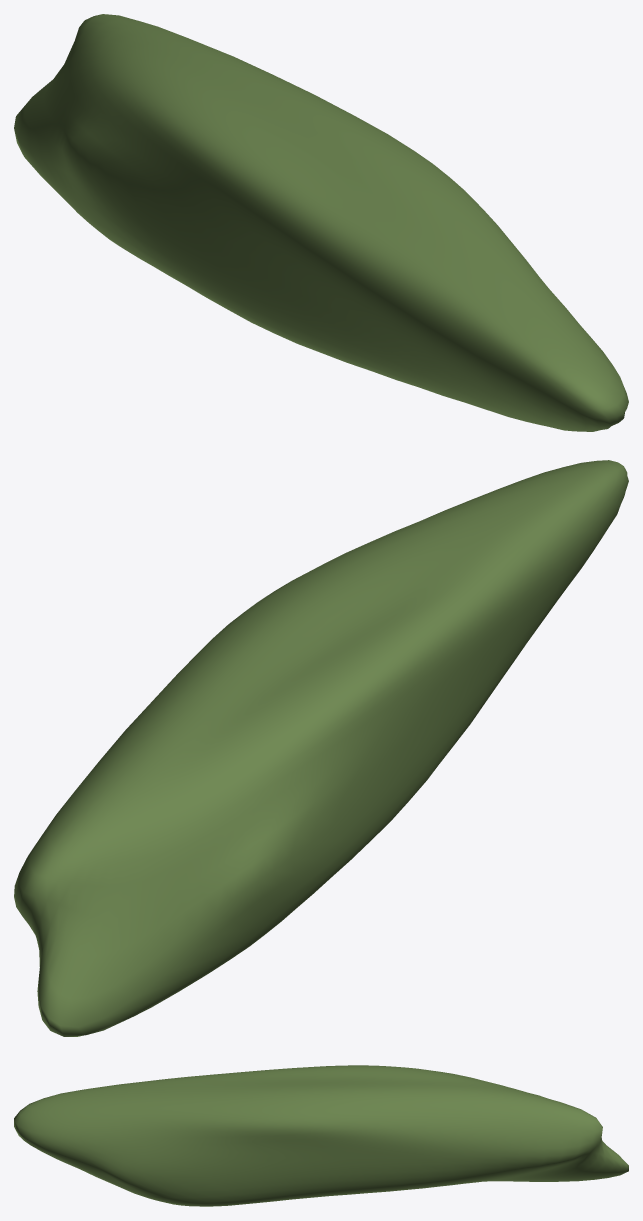
File: Feuilles_Obstacle_2.fbx
3 renders of one model, top to bottom at view 1: azimuth 30°, elevation 25°; view 2: azimuth 150°, elevation 25°; view 3: azimuth 270°, elevation 25°, orthographic. The views are drawn at different scales.
Parts seen in each view (by area): view 1: Sphere.006; view 2: Sphere.006; view 3: Sphere.006.
Boxes of the visible parts, bbox=[...] form: Sphere.006: bbox=[14, 14, 628, 431]; Sphere.006: bbox=[14, 460, 628, 1036]; Sphere.006: bbox=[14, 1065, 628, 1206].
Bounding box in the file's own units: 69.38 × 64.22 × 331.
